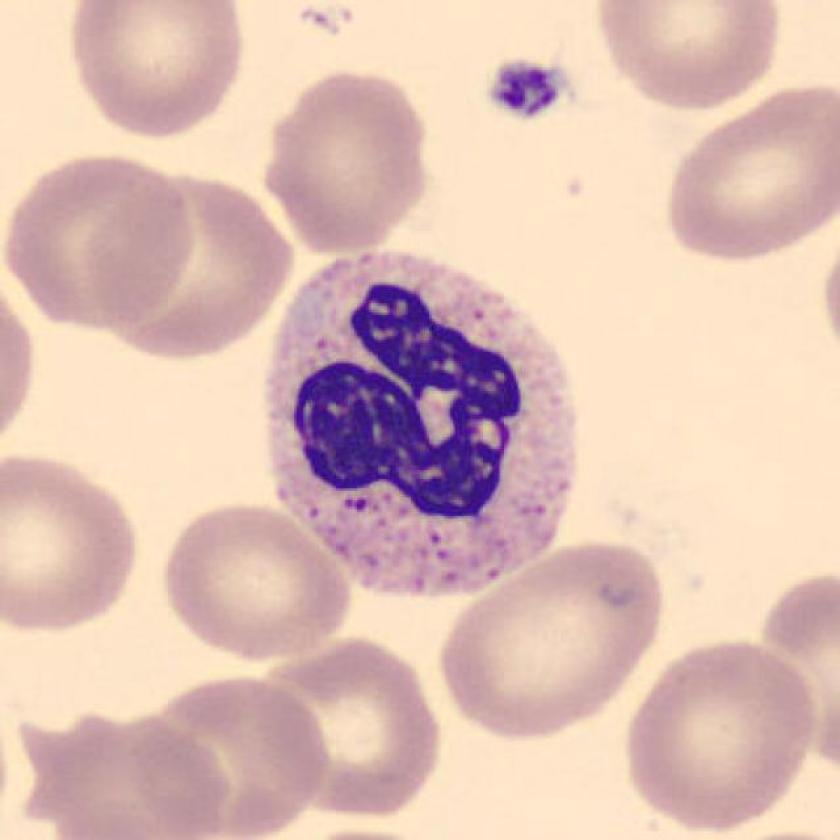neutrophil: (266, 255, 579, 595)
